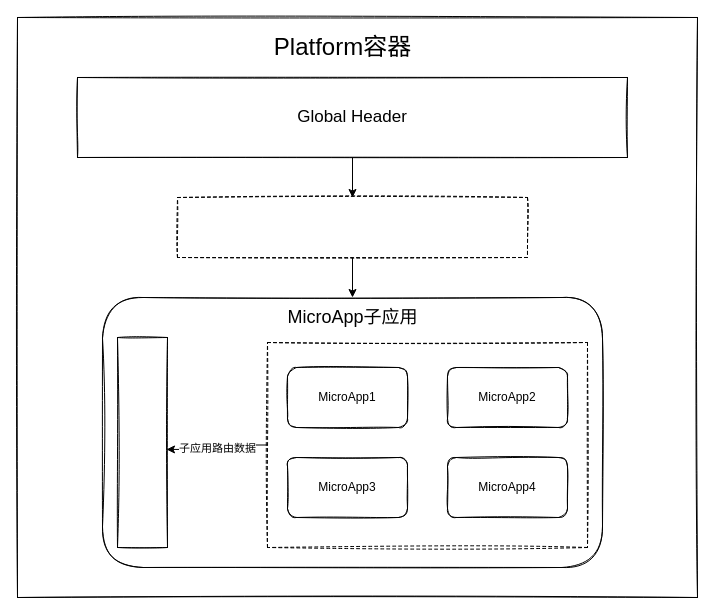
The diagram is 715 pixels wide and 615 high, and some of its shapes have lost their labels. The shapes that lost their labels are listed below. From the top down, each one's centre as x and y in pixels, then its label:
At pixel 352 227: "Share Infos (用户、权限、登录状态等信息)".
At pixel 142 442: "侧边菜单栏".
